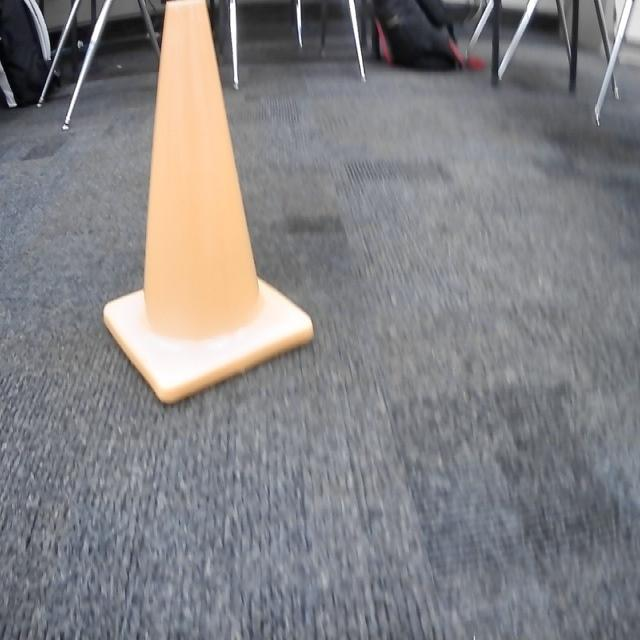cone: (102, 0, 316, 405)
